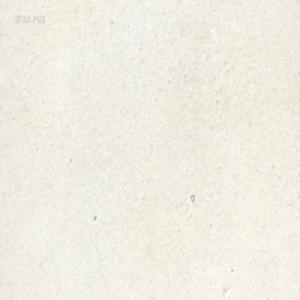Washer: (189, 193, 194, 202)
